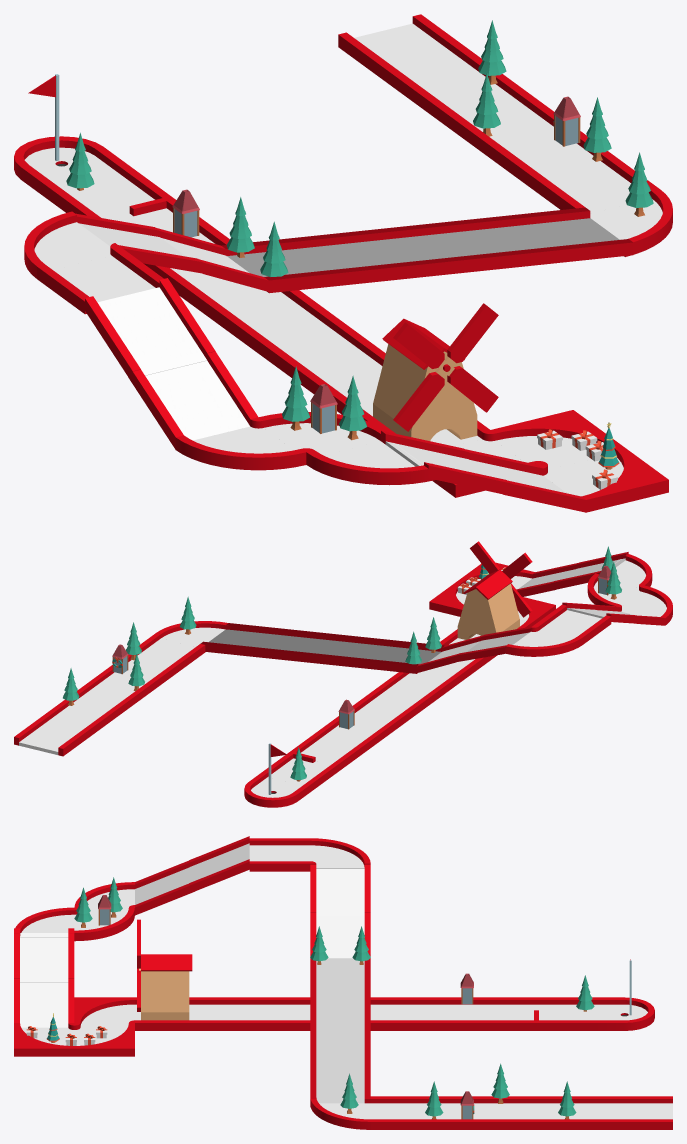
The model's file is golf.obj.
3 renders of one model, top to bottom at view 1: azimuth 30°, elevation 25°; view 2: azimuth 150°, elevation 25°; view 3: azimuth 270°, elevation 25°, orthographic. The views are drawn at different scales.
Size of the model in its own units: 8.1 by 1.79 by 10.9.
